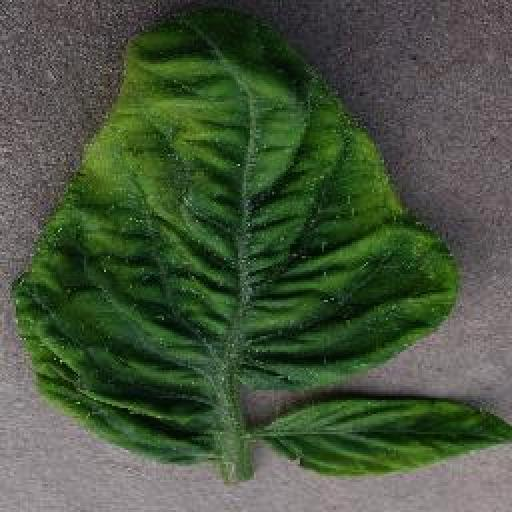disease_tomato: (13, 7, 455, 465), (260, 395, 510, 481)
